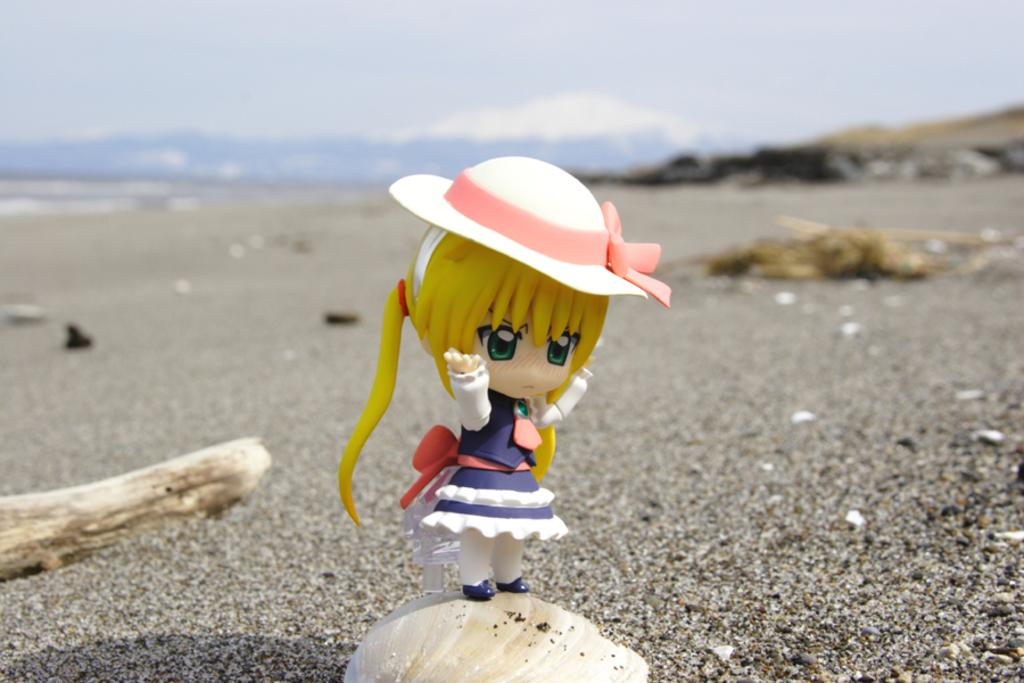Hat: (384, 150, 671, 305)
